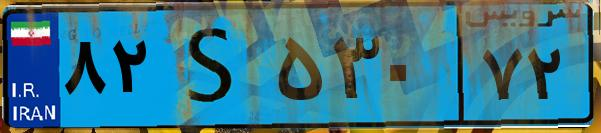0: (385, 28, 445, 110)
2: (525, 38, 570, 115), (110, 28, 158, 98)
3: (330, 28, 385, 110)
5: (270, 28, 330, 110)
7: (475, 38, 525, 113)
8: (57, 26, 110, 100)
S: (158, 12, 270, 120)
